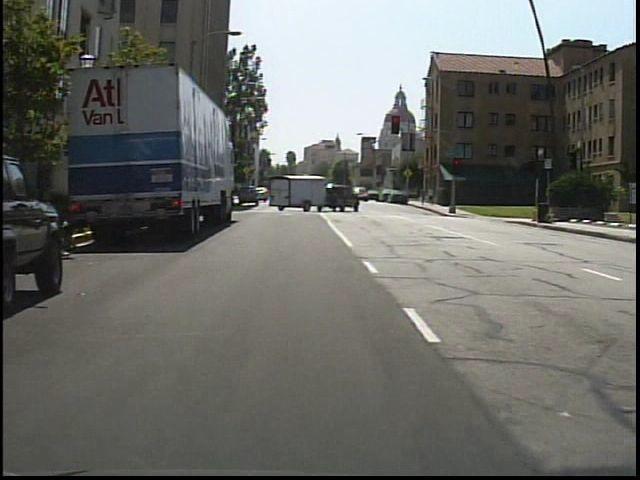person: (428, 184, 440, 210), (419, 186, 428, 208)
